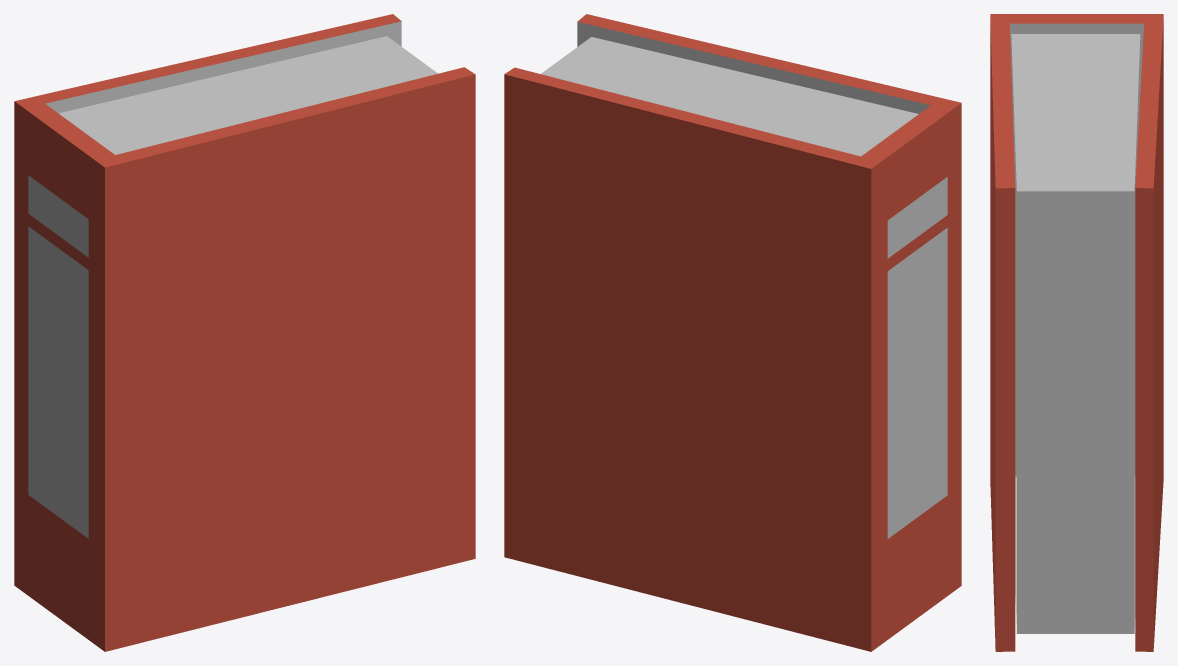
File: SM_Book_02.fbx
3 views of the same model, side by side, from view 1: azimuth 30°, elevation 25°; view 2: azimuth 150°, elevation 25°; view 3: azimuth 270°, elevation 25° (orthographic). The views are drawn at different scales.
Visible parts, largest first — view 1: SM_Book_02; view 2: SM_Book_02; view 3: SM_Book_02.
Boxes of the visible parts, bbox=[...] form: SM_Book_02: bbox=[14, 14, 475, 651]; SM_Book_02: bbox=[504, 14, 961, 651]; SM_Book_02: bbox=[990, 14, 1163, 651].
Size of the model in its own units: 36.44 by 45.04 by 15.28.
Materials: 1 (1 with a texture image).
